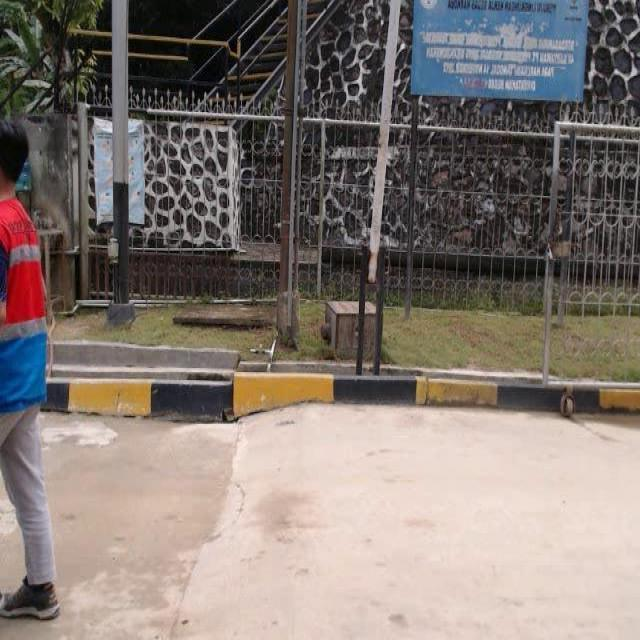safety_vest: (0, 184, 54, 419)
